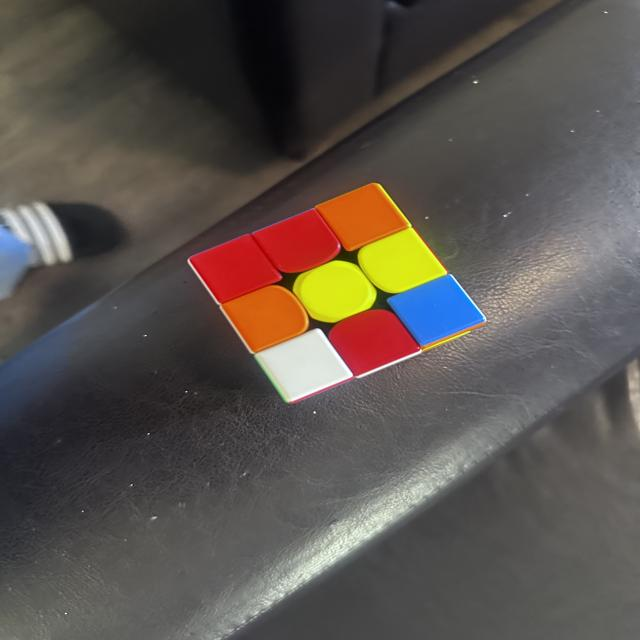sticker: (252, 328, 354, 404), (386, 276, 486, 350), (313, 182, 410, 253), (326, 308, 419, 378), (188, 235, 282, 304), (220, 285, 311, 354), (252, 208, 343, 275), (358, 229, 445, 294), (292, 260, 378, 324)
